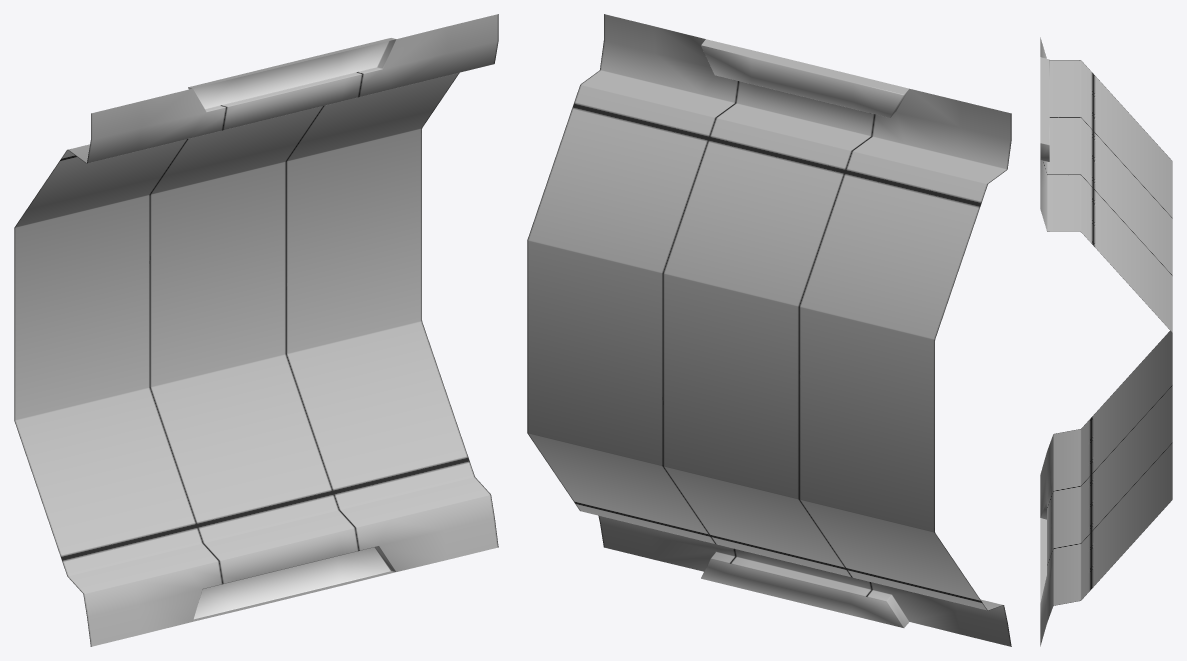
Rendered from Corridor_Wall.fbx.
The picture shows the model from 3 angles, left to right: view 1: azimuth 30°, elevation 25°; view 2: azimuth 150°, elevation 25°; view 3: azimuth 270°, elevation 25°; orthographic projection. The views are drawn at different scales.
Parts seen in each view (by area): view 1: Corridor_Wall; view 2: Corridor_Wall; view 3: Corridor_Wall.
Part boxes in pixels (bbox=[...]): Corridor_Wall: bbox=[14, 14, 498, 646]; Corridor_Wall: bbox=[527, 14, 1011, 646]; Corridor_Wall: bbox=[1040, 37, 1172, 646].
Bounding box in the file's own units: 400 × 502 × 130.
